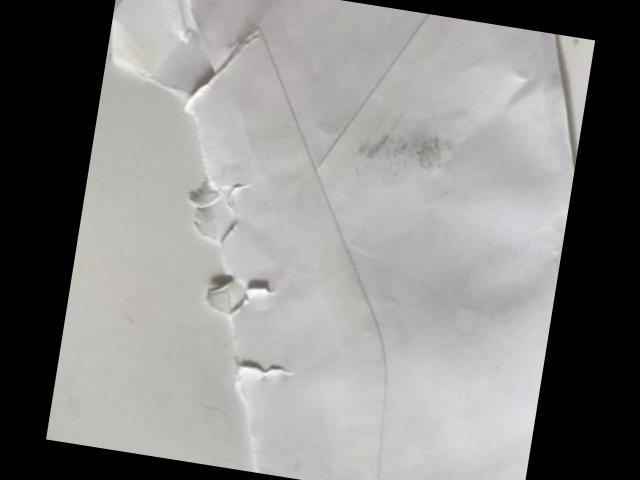cardboard paper: (111, 0, 573, 480)
